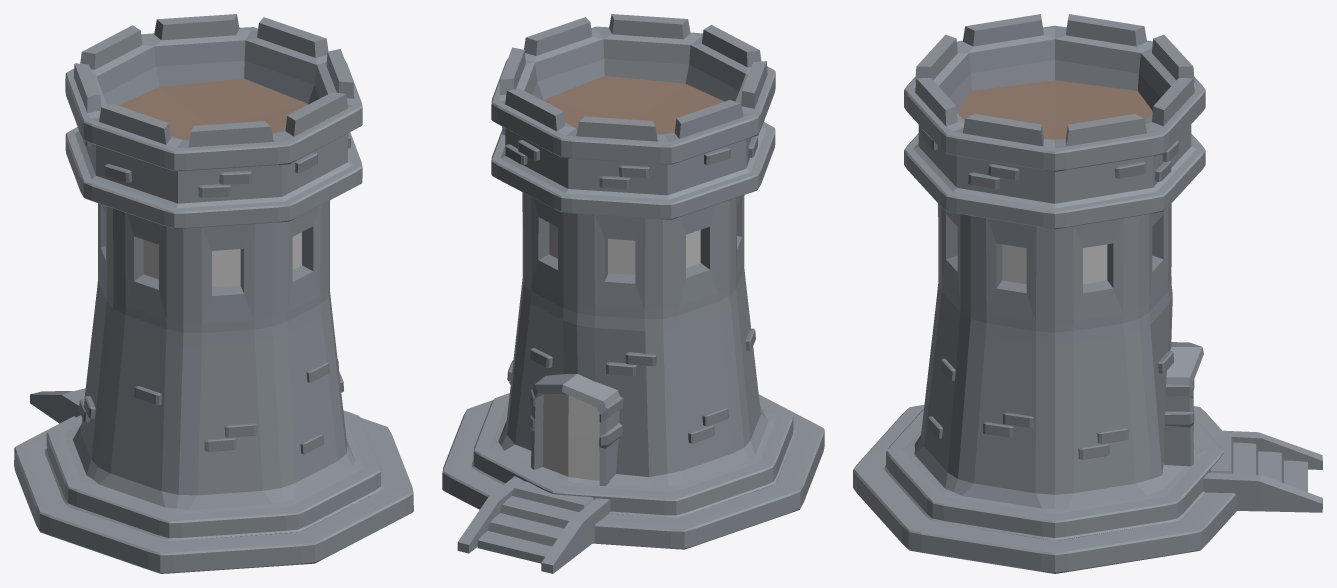
File: Buildable.fbx
3 views of the same model, side by side, from view 1: azimuth 30°, elevation 25°; view 2: azimuth 150°, elevation 25°; view 3: azimuth 270°, elevation 25° (orthographic). The views are drawn at different scales.
Visible parts, largest first — view 1: Buildable; view 2: Buildable; view 3: Buildable.
Part boxes in pixels (<box>): Buildable: <box>14,14,413,573</box>; Buildable: <box>442,14,824,573</box>; Buildable: <box>853,14,1322,573</box>.
Size of the model in its own units: 1127 by 1288 by 1315.
